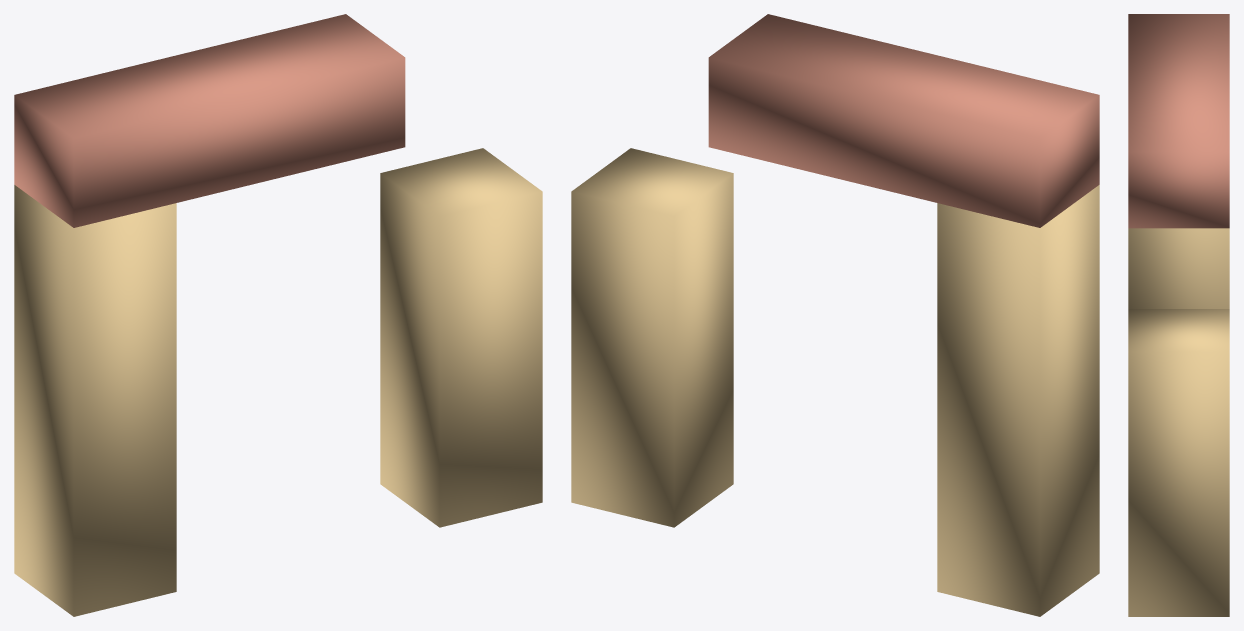
Rendered from old_city_gate.glb.
The picture shows the model from 3 angles, left to right: view 1: azimuth 30°, elevation 25°; view 2: azimuth 150°, elevation 25°; view 3: azimuth 270°, elevation 25°; orthographic projection. The views are drawn at different scales.
Parts seen in each view (by area): view 1: pillar_l, pillar_r, arch_beam; view 2: pillar_l, pillar_r, arch_beam; view 3: pillar_r, arch_beam, pillar_l.
Boxes of the visible parts, left/top/right/bottom form: pillar_l: left=14, top=185, right=176, bottom=616; pillar_r: left=380, top=148, right=542, bottom=527; arch_beam: left=14, top=14, right=405, bottom=227; pillar_l: left=937, top=185, right=1099, bottom=616; pillar_r: left=571, top=148, right=733, bottom=527; arch_beam: left=708, top=14, right=1099, bottom=227; pillar_r: left=1128, top=309, right=1229, bottom=616; arch_beam: left=1128, top=14, right=1229, bottom=228; pillar_l: left=1128, top=228, right=1229, bottom=308.
Size of the model in its own units: 0.82 by 0.8 by 0.18.
